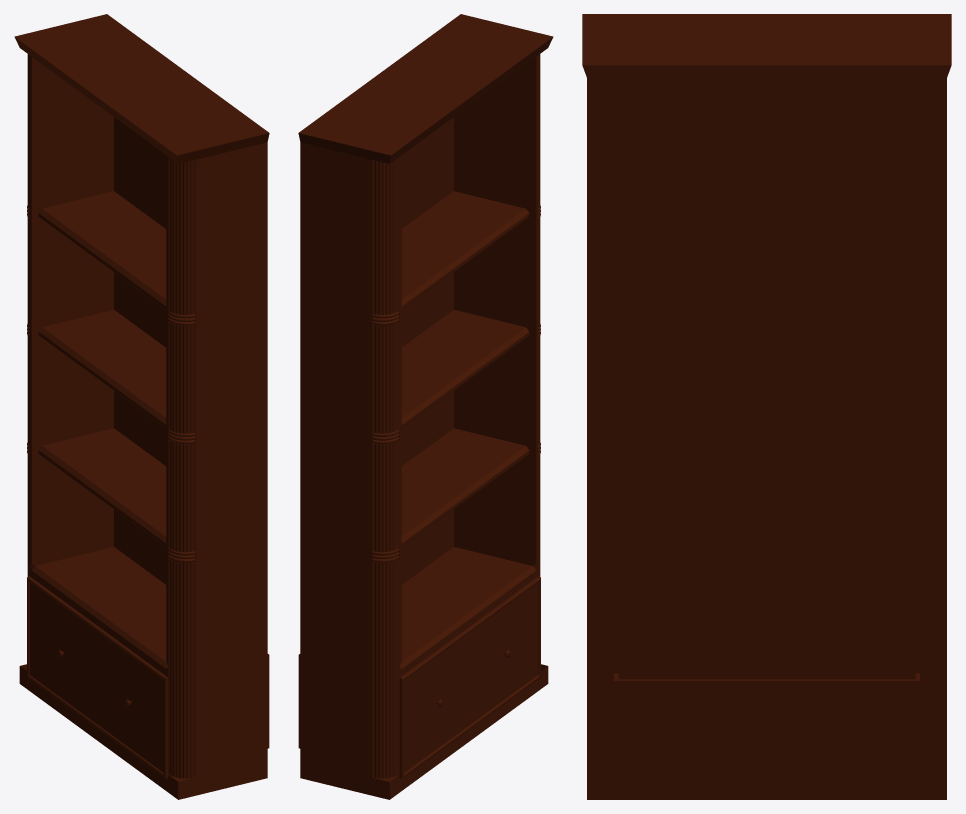
The model's file is LivingRoom BookShelf 1.fbx.
The picture shows the model from 3 angles, left to right: view 1: azimuth 30°, elevation 25°; view 2: azimuth 150°, elevation 25°; view 3: azimuth 270°, elevation 25°; orthographic projection. The views are drawn at different scales.
Visible parts, largest first — view 1: BookShelf; view 2: BookShelf; view 3: BookShelf.
Boxes of the visible parts, box(x1,y1,x2,y2) form: BookShelf: box(14, 14, 269, 799); BookShelf: box(298, 14, 553, 799); BookShelf: box(582, 14, 951, 799).
Size of the model in its own units: 32 by 180 by 82.
